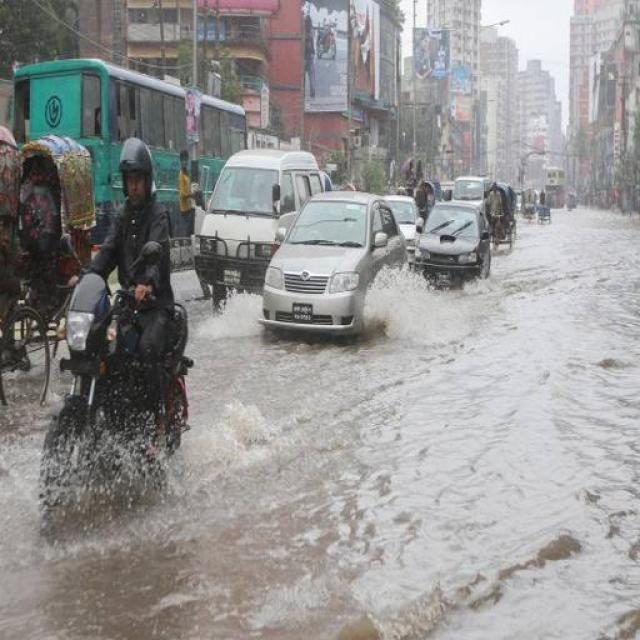puddle: (192, 332, 407, 631), (389, 280, 544, 636), (520, 220, 640, 632), (15, 505, 228, 639)
